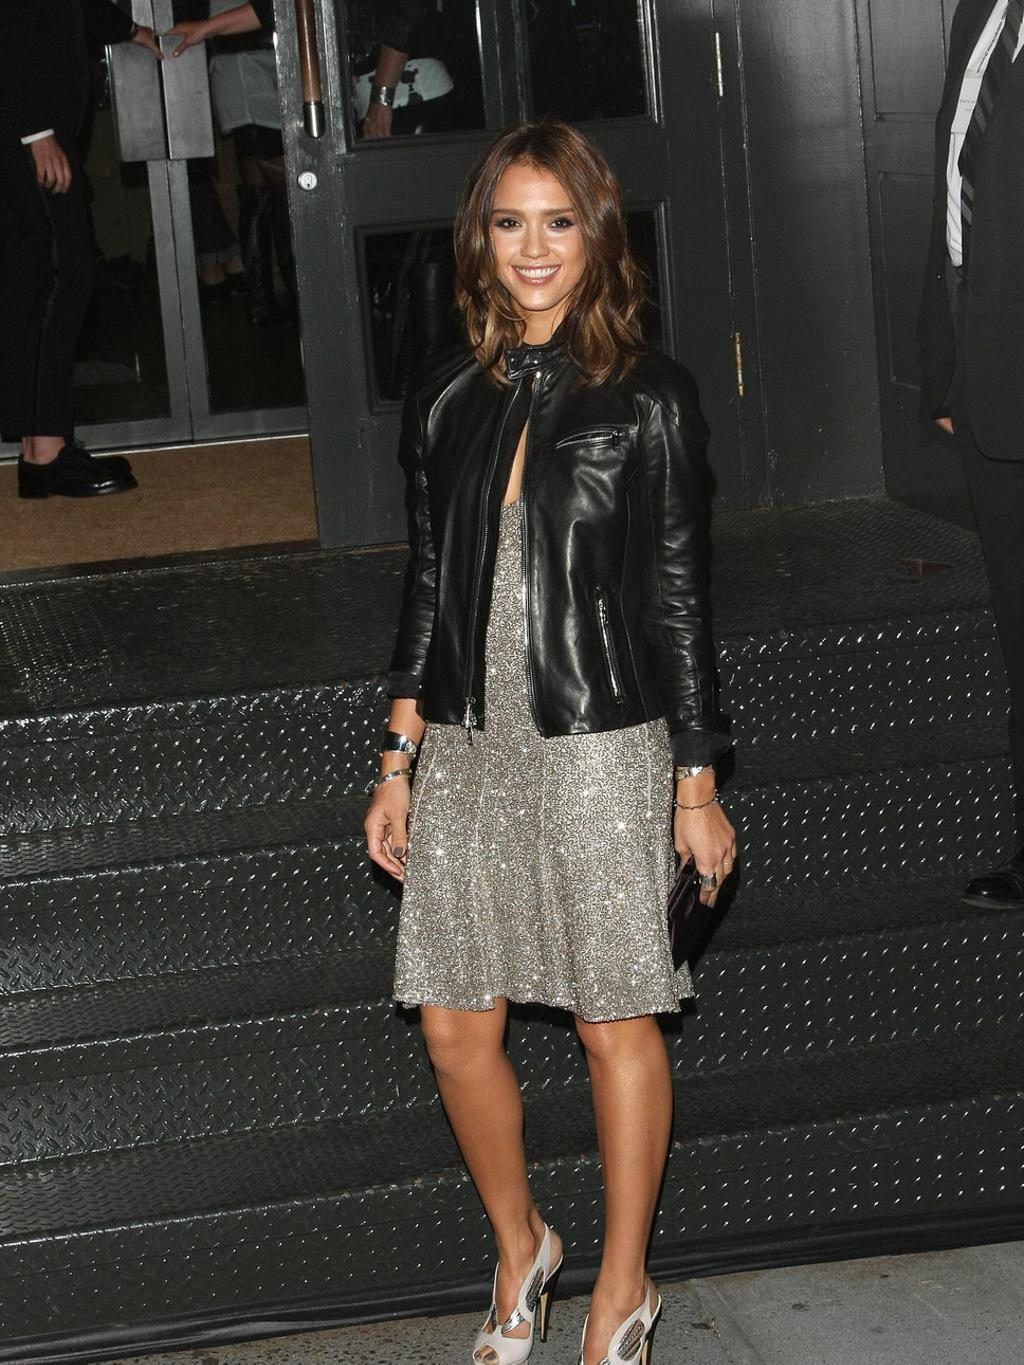face: (472, 160, 595, 307)
